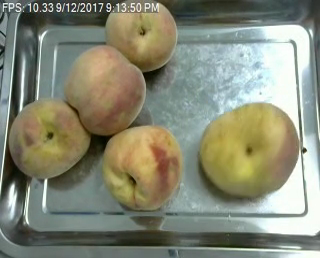Peach: (200, 101, 299, 197), (63, 44, 147, 136), (100, 123, 183, 210), (8, 97, 91, 182), (104, 0, 178, 72)
